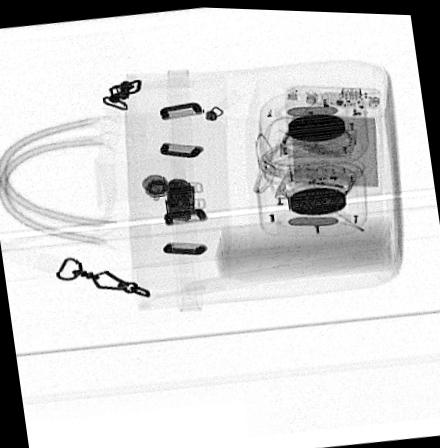Powerbank: (280, 82, 382, 193)
